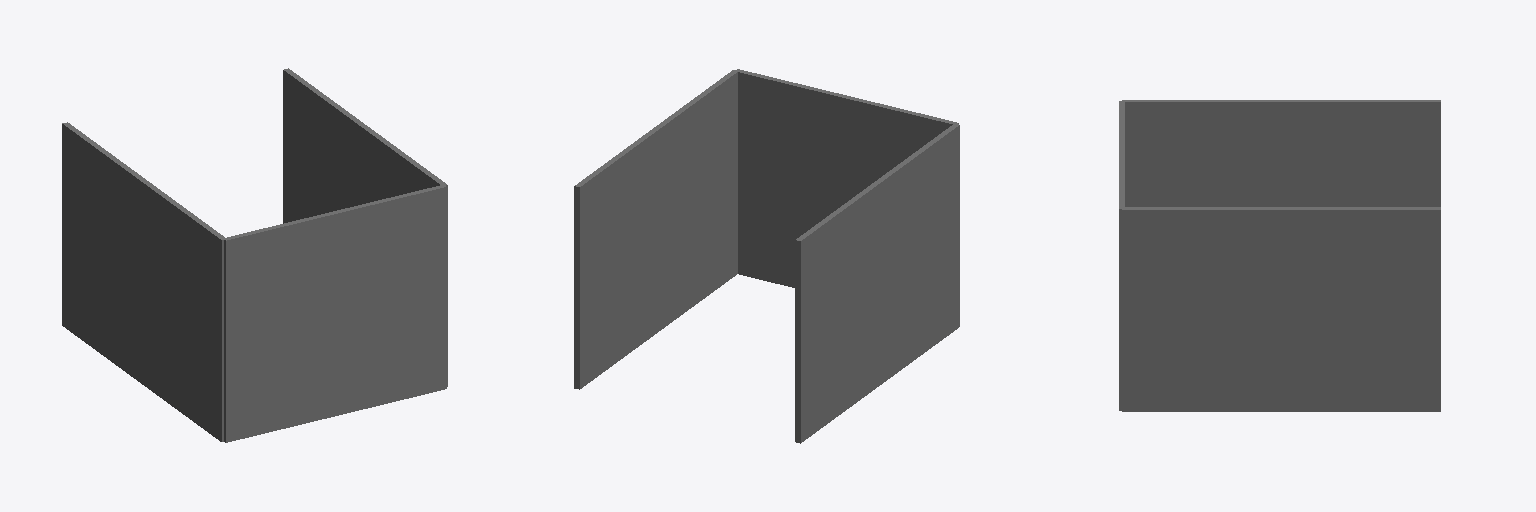
File: walls.obj
3 renders of one model, left to right at view 1: azimuth 30°, elevation 25°; view 2: azimuth 150°, elevation 25°; view 3: azimuth 270°, elevation 25°, orthographic.
Parts seen in each view (by area): view 1: blockout wall1, blockout wall2, wall3 blockout; view 2: blockout wall2, wall3 blockout, blockout wall1; view 3: wall3 blockout, blockout wall2, blockout wall1.
Boxes of the visible parts, x1=… form: blockout wall1: x1=224, y1=185, x2=446, y2=442; blockout wall2: x1=62, y1=122, x2=226, y2=441; wall3 blockout: x1=283, y1=68, x2=447, y2=386; blockout wall2: x1=795, y1=123, x2=959, y2=443; wall3 blockout: x1=574, y1=70, x2=737, y2=389; blockout wall1: x1=736, y1=69, x2=958, y2=287; wall3 blockout: x1=1122, y1=207, x2=1440, y2=411; blockout wall2: x1=1122, y1=100, x2=1440, y2=206; blockout wall1: x1=1119, y1=101, x2=1124, y2=410.
Bounding box in the file's own units: 410 × 350 × 505.